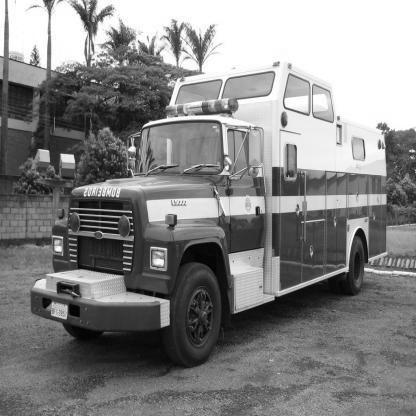ambulance: (42, 43, 397, 367)
